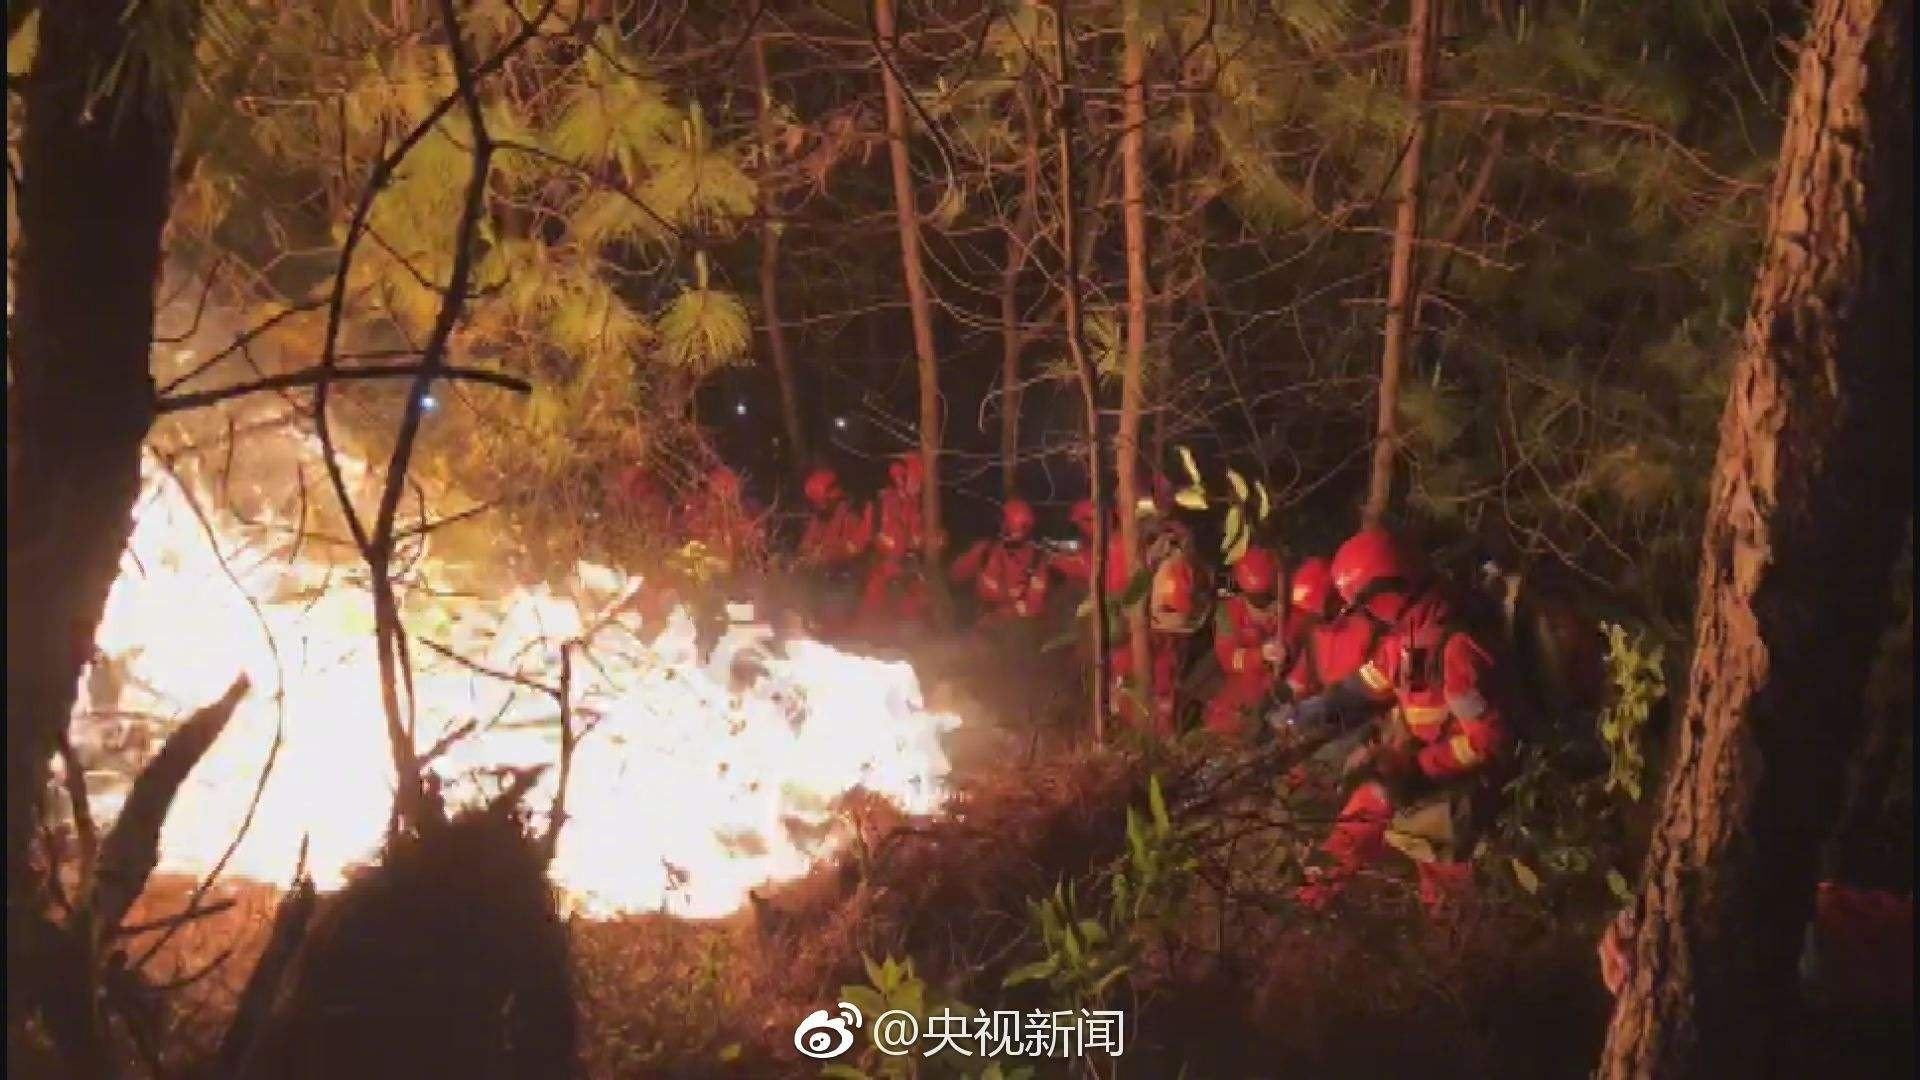fire: (84, 458, 949, 923)
